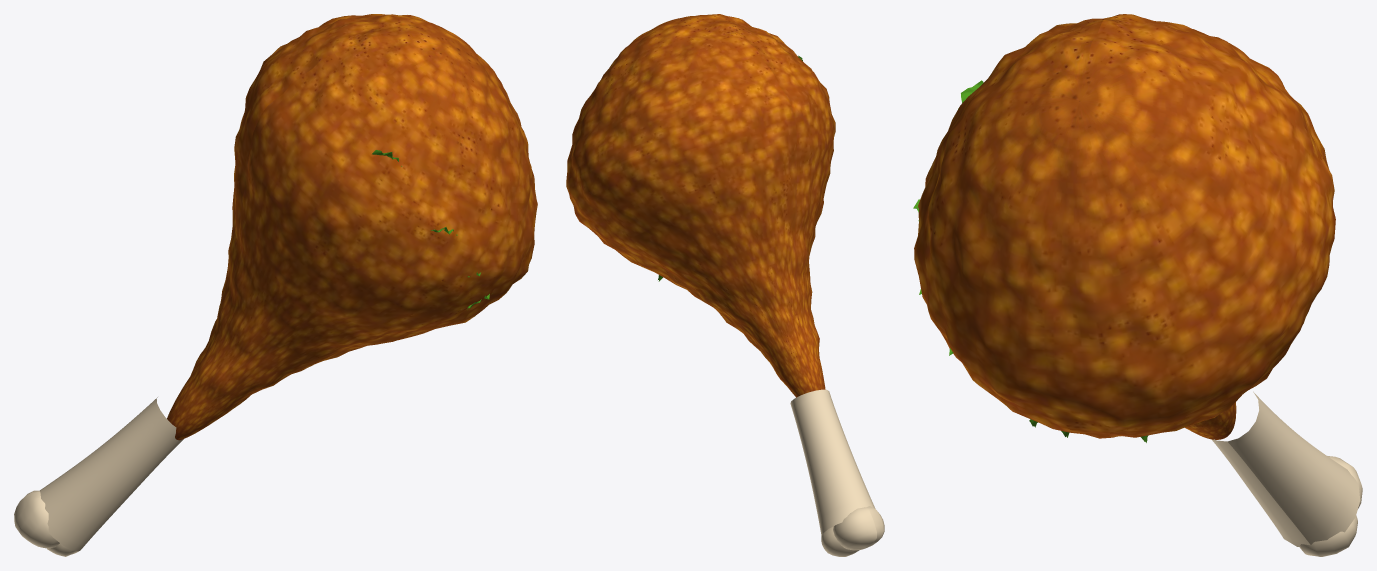
The model's file is crispy-chicken-drumstick.glb.
3 renders of one model, left to right at view 1: azimuth 30°, elevation 25°; view 2: azimuth 150°, elevation 25°; view 3: azimuth 270°, elevation 25°, orthographic. The views are drawn at different scales.
Visible parts, largest first — view 1: crispy-thigh-meat, bone-condyle; view 2: crispy-thigh-meat, bone-condyle; view 3: crispy-thigh-meat, bone-condyle.
Part boxes in pixels (x1=…): crispy-thigh-meat: x1=167, y1=14, x2=537, y2=440; bone-condyle: x1=14, y1=397, x2=183, y2=556; crispy-thigh-meat: x1=566, y1=14, x2=835, y2=397; bone-condyle: x1=790, y1=389, x2=884, y2=556; crispy-thigh-meat: x1=914, y1=14, x2=1335, y2=439; bone-condyle: x1=1211, y1=391, x2=1362, y2=556.
Size of the model in its own units: 0.1284 by 0.1505 by 0.0911.
Materials: 3 (1 with a texture image).
